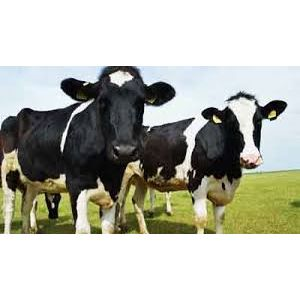cow: (1, 65, 173, 234), (174, 66, 289, 234)
